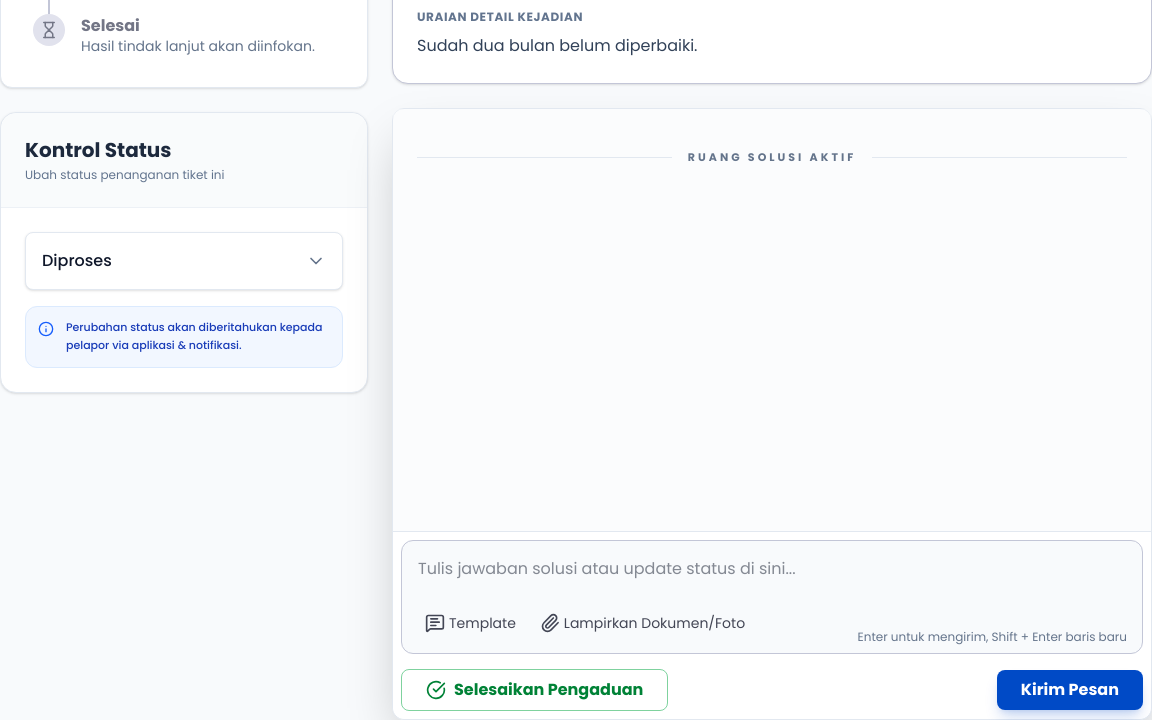
it: Detail pengaduan Admin OPD › pesan yang gagal terkirim tidak dibuang, dan sebabnya muncul di dekat tombolnya
(page scrolled)
Type "Perbaikan dijadwalkan pekan depan." into the text box with placeholder "Tulis jawaban solusi atau update status di sini...". click: [772, 597]
box: [401,540,1143,654]
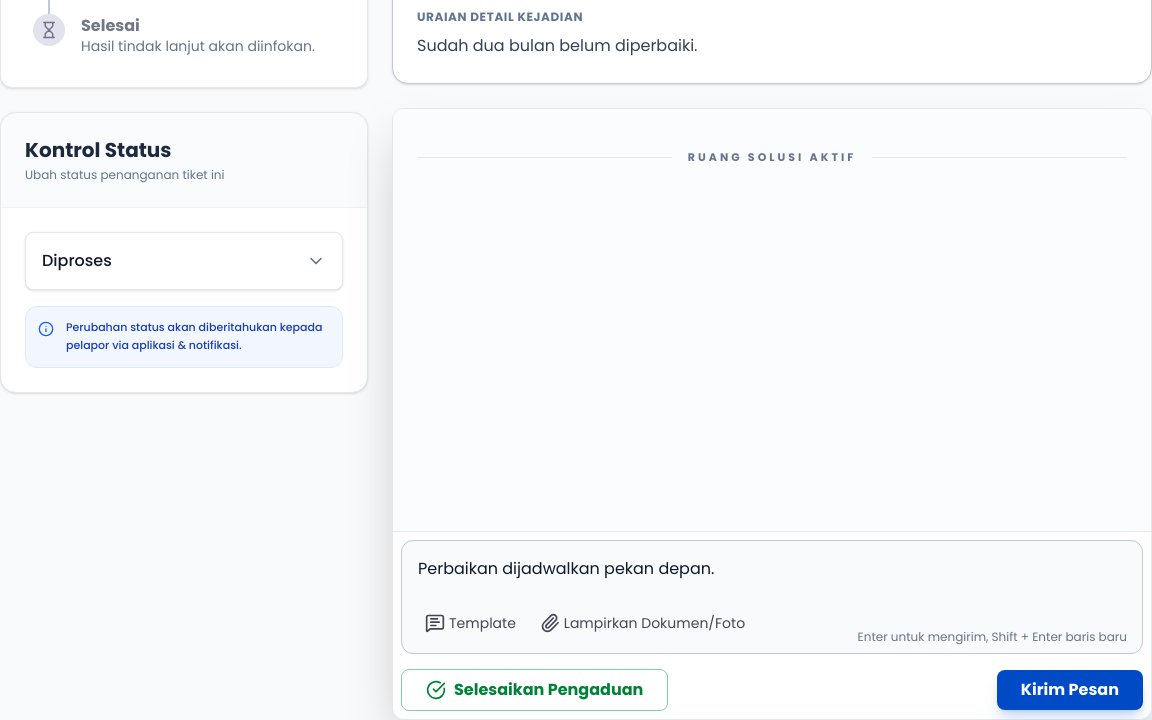
Click the button "Kirim Pesan". click: [1070, 690]
box: [997,670,1143,710]
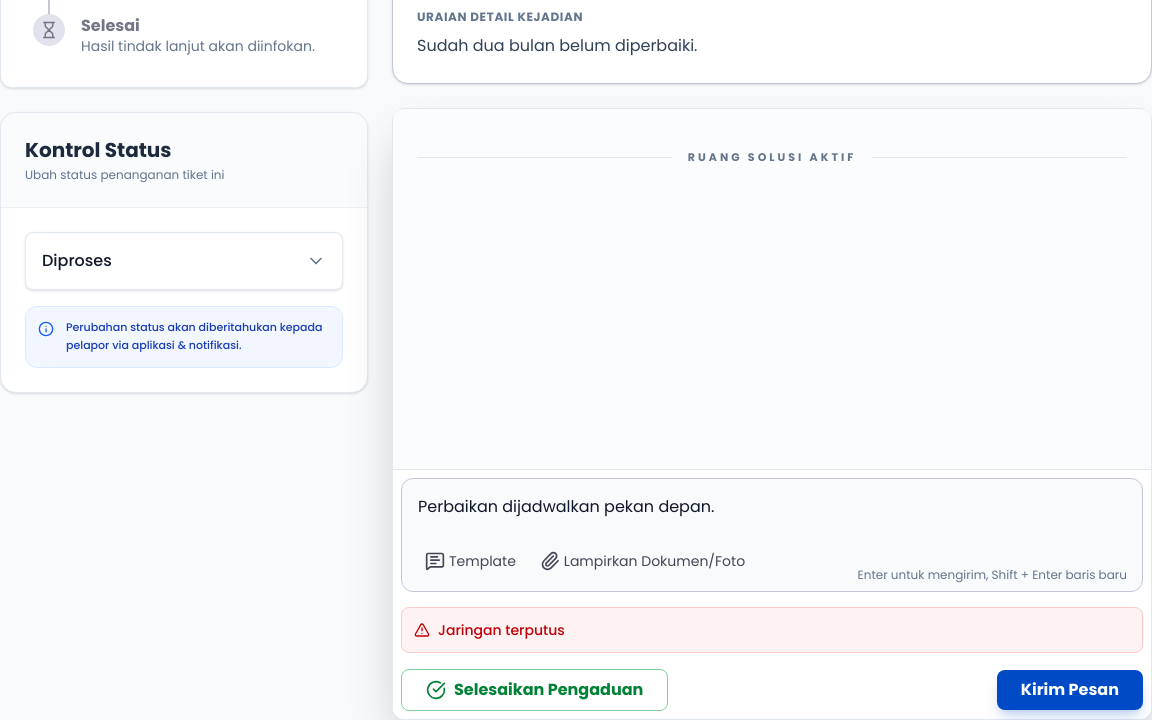
Now the text "Jaringan terputus" is shown, box [438,620,565,640]
